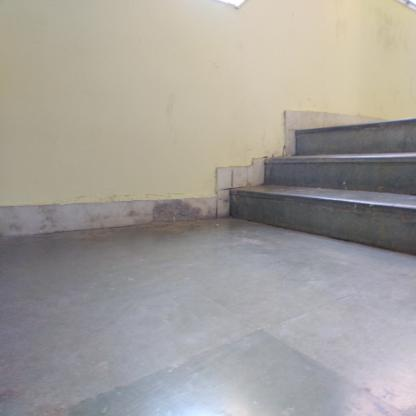stairs: (293, 126, 416, 259)
